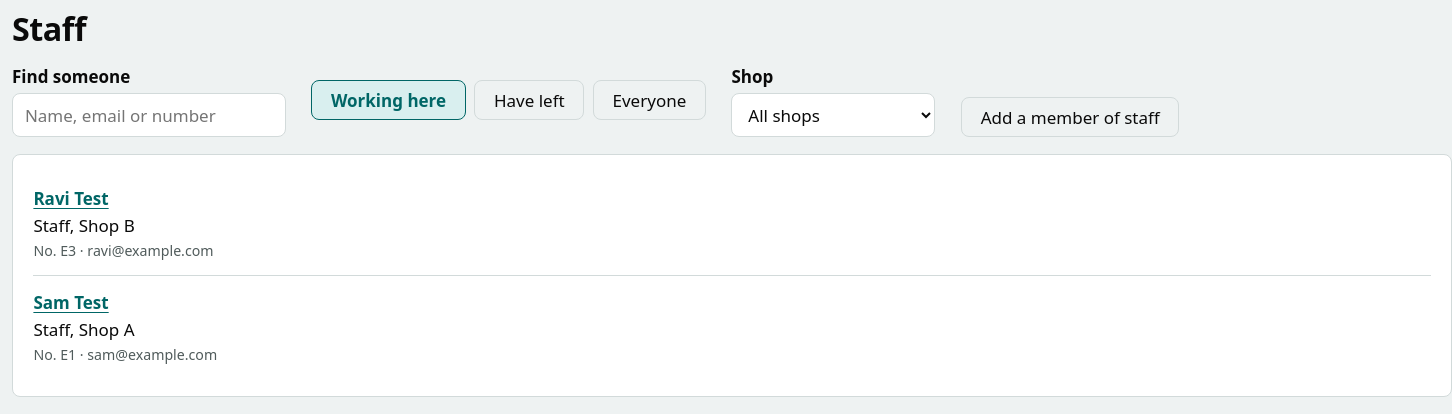
Test: staff list › shows people working here by default, can show leavers, and searches
The image size is (1452, 414).
Check: the link "Sam Test" is shown, box [33,291,109,314]
Check: the text "Priya Test" is not shown
Click the button "Have left".
click(529, 100)  # box [474,80,584,120]
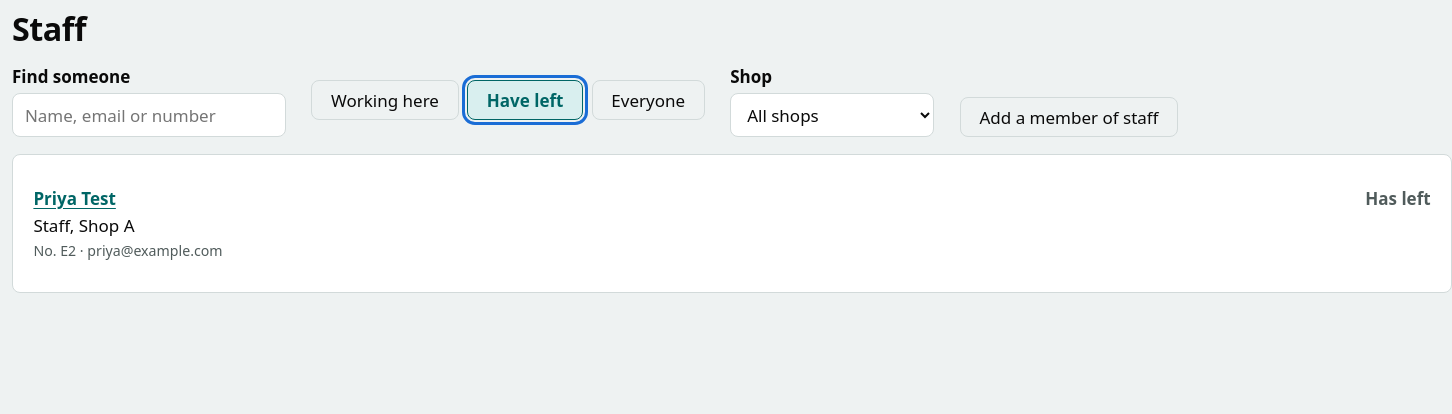
Check: the link "Priya Test" is shown, box [33,187,116,210]
Check: the link "Sam Test" is gone
Click the button "Working here".
click(385, 100)  # box [311,80,459,120]
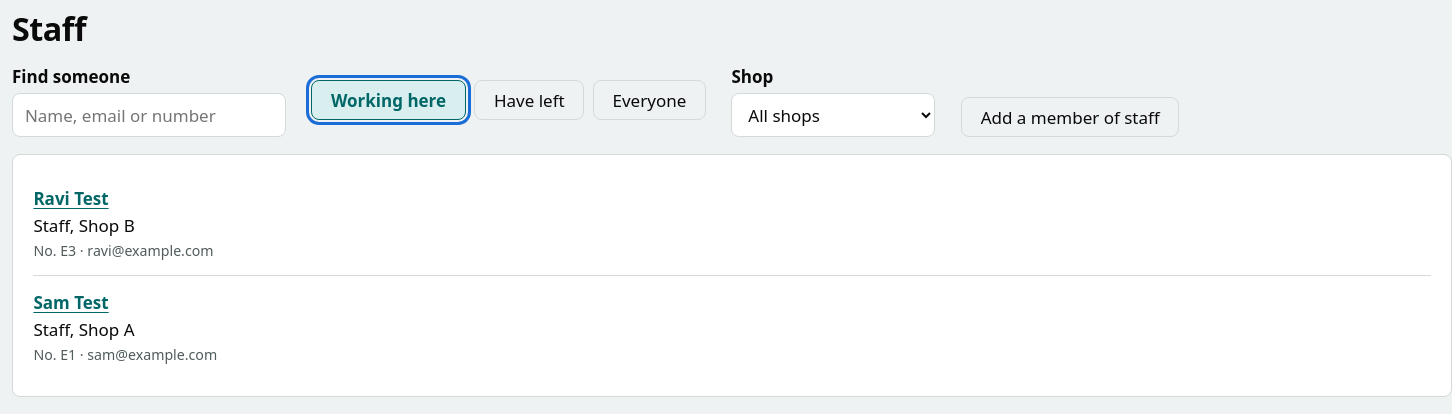
Type "ravi" into the search field labelled "Find someone".
click(149, 115); type("ravi")  # box [12,93,286,137]
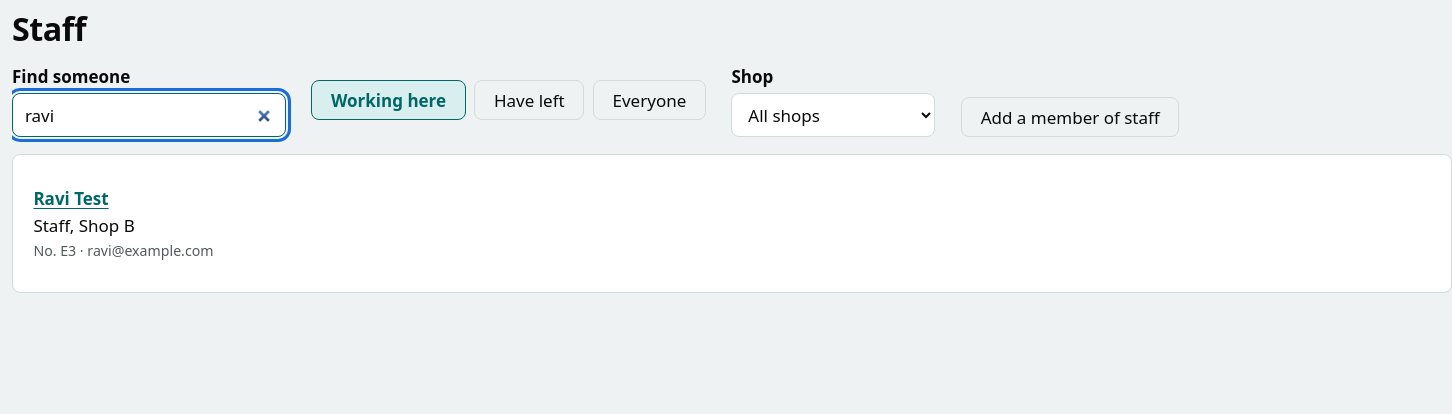
Check: the link "Ravi Test" is shown, box [33,187,109,210]
Check: the link "Sam Test" is gone
